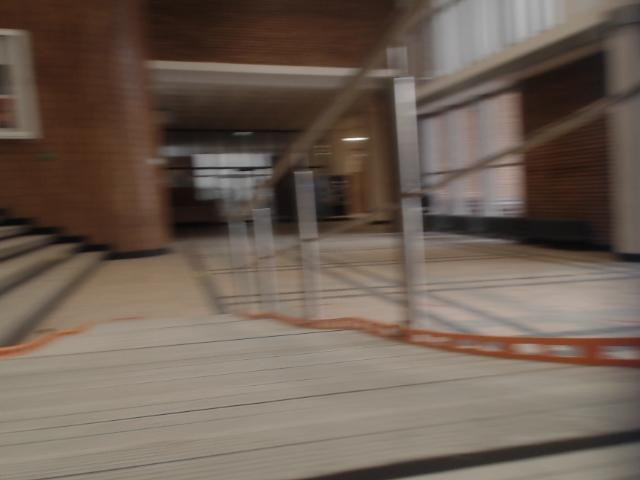rampDown: (0, 314, 639, 479)
